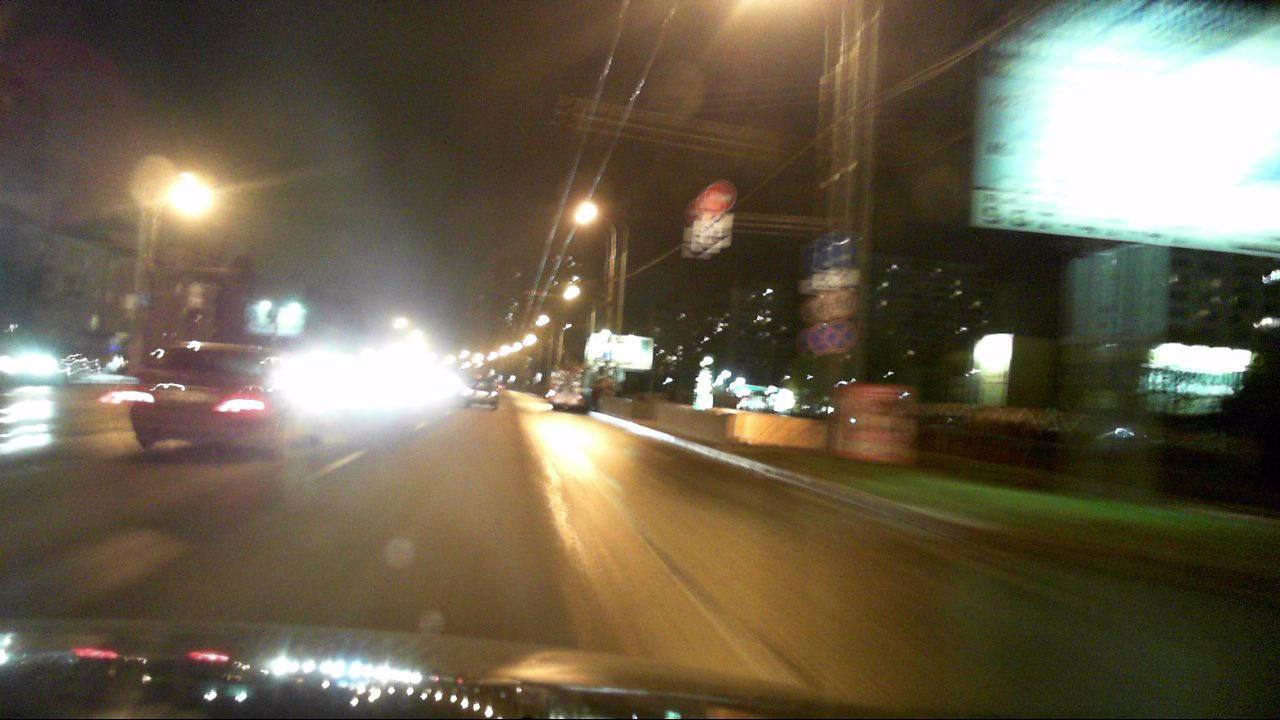No Parking: (822, 320, 857, 351)
